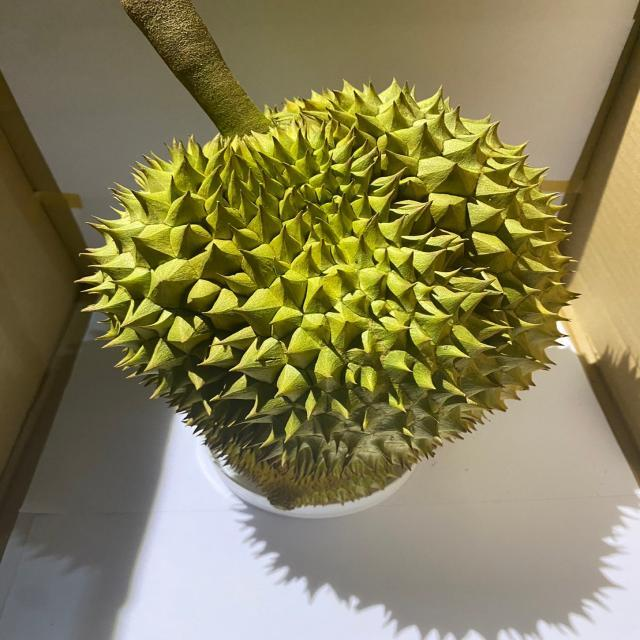immature: (75, 75, 581, 511)
